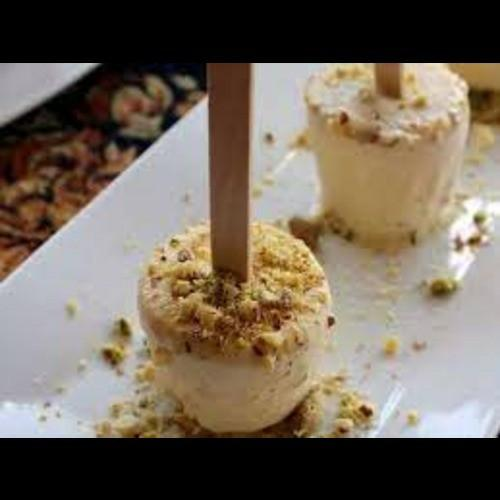Kulfi: (143, 213, 333, 433), (306, 64, 474, 233)
